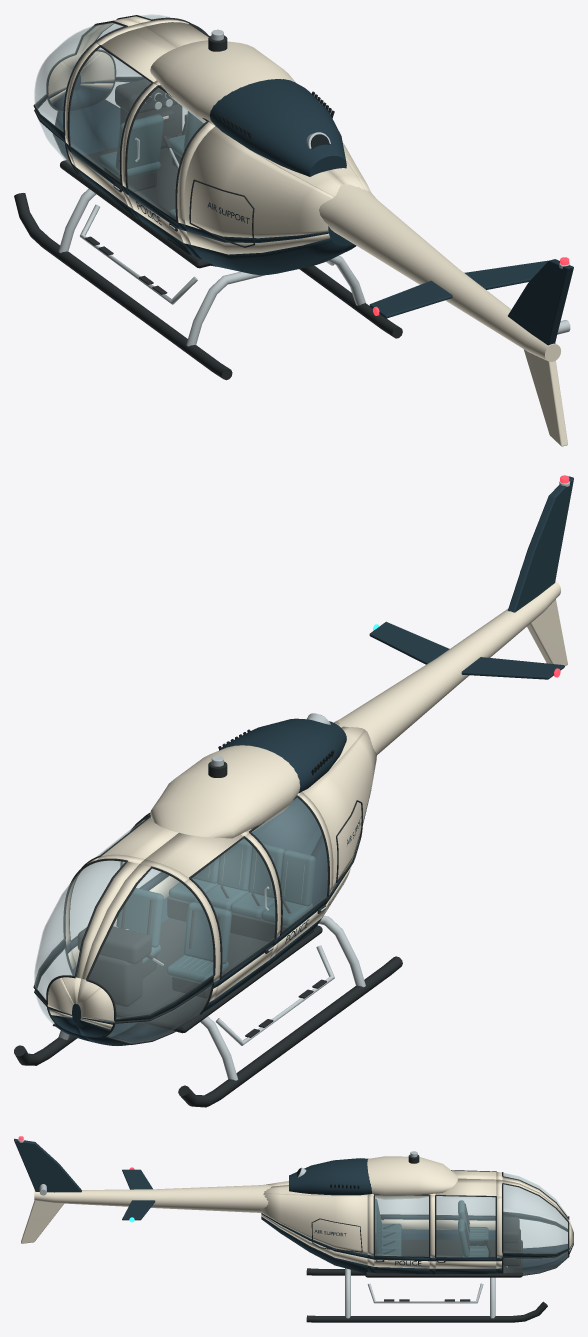
3 views of the same model, one above another, from view 1: azimuth 30°, elevation 25°; view 2: azimuth 150°, elevation 25°; view 3: azimuth 270°, elevation 25° (orthographic). The views are drawn at different scales.
Visible parts, largest first — view 1: AS350; view 2: AS350; view 3: AS350.
Part boxes in pixels (x1=…): AS350: x1=14, y1=14, x2=573, y2=446; AS350: x1=14, y1=475, x2=573, y2=1107; AS350: x1=14, y1=1136, x2=573, y2=1322.
Bounding box in the file's own units: 228 × 338 × 1061.
